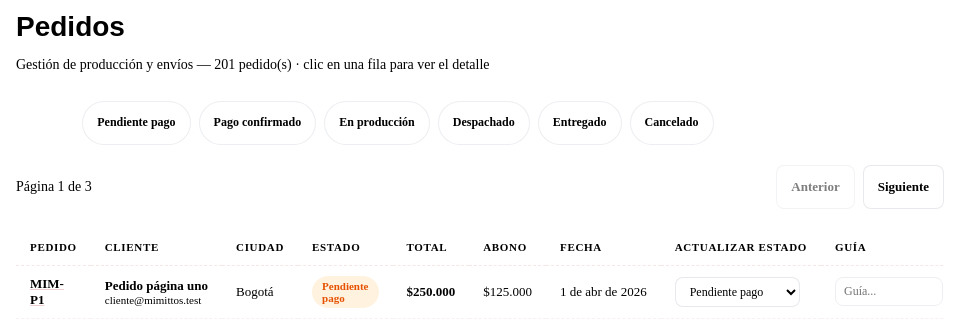
PedidosAdminPage pagination › hides page data while a page-one filter request is pending
This screenshot has width=961, height=336.
expect the row with test id "order-row-MIM-P1" is shown: met, box 16,265 -> 944,318
Click the button with aria-label "Página siguiente": (903, 187) 863,165 -> 944,209
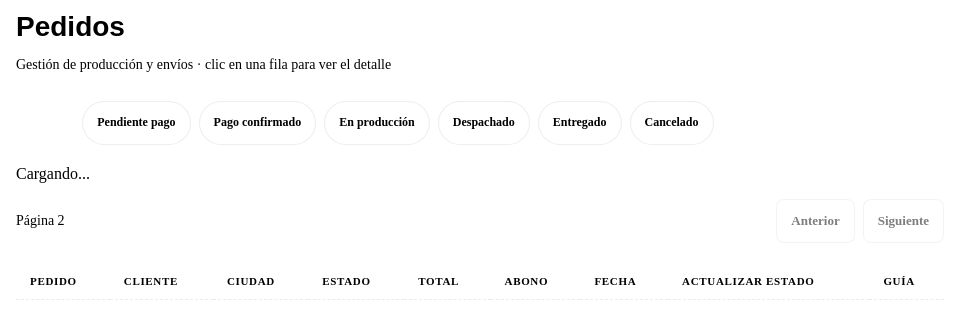
Click the button "En producción": (377, 123) 324,101 -> 430,145
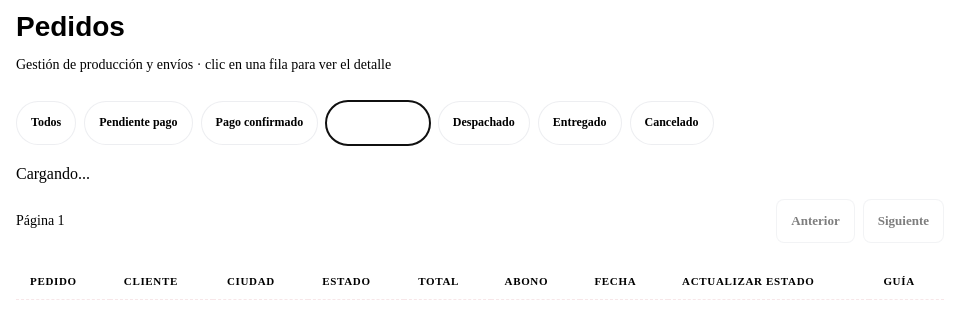
expect the text "— 201 pedido(s)" is not shown: met
expect the text "Página 1" is shown: met, box 16,213 -> 65,229
